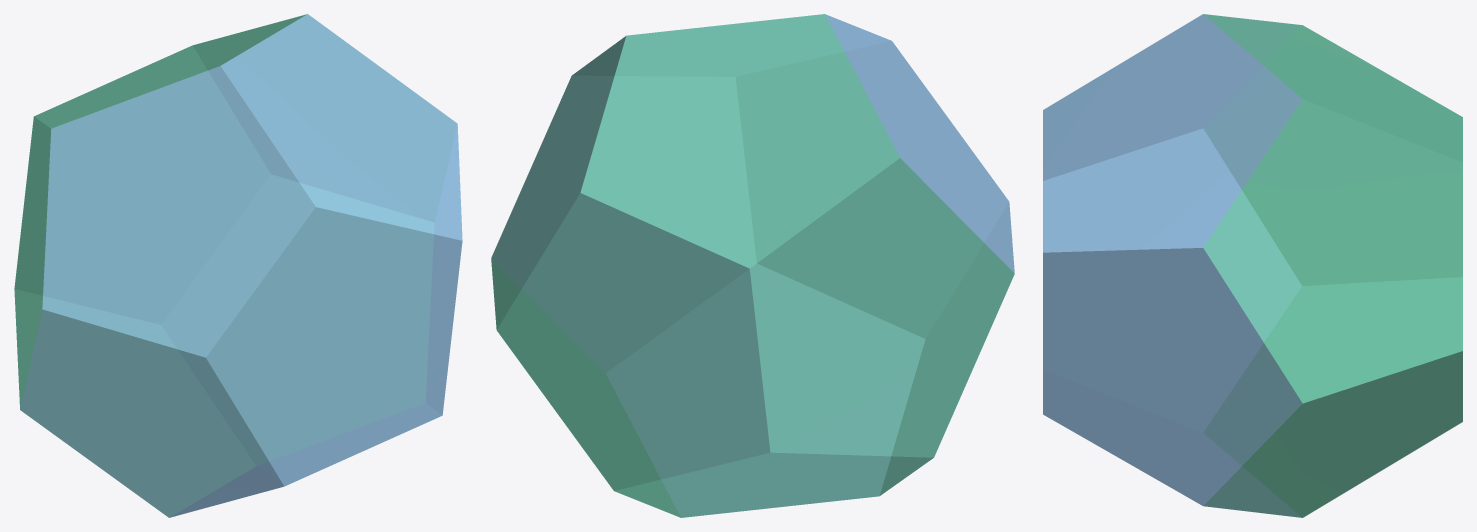
3 renders of one model, left to right at view 1: azimuth 30°, elevation 25°; view 2: azimuth 150°, elevation 25°; view 3: azimuth 270°, elevation 25°, orthographic. The views are drawn at different scales.
Bounding box in the file's own units: 8.43 × 8.34 × 6.87.
